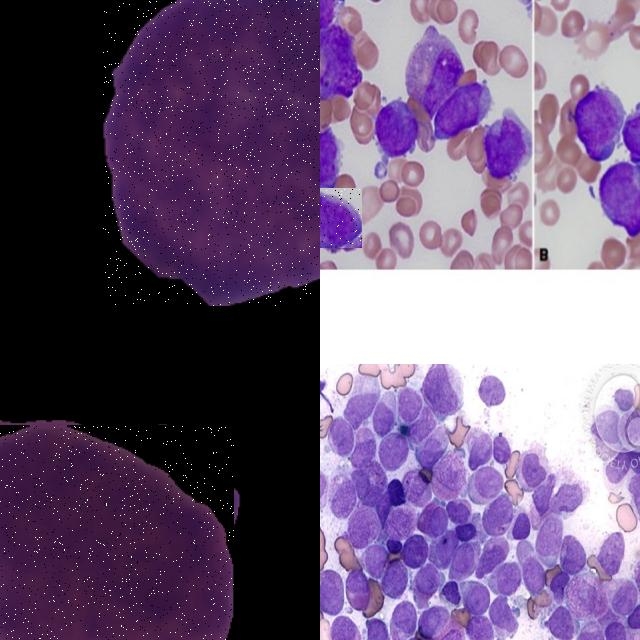ALL Negative Cells: (104, 0, 320, 306), (0, 426, 234, 640), (512, 536, 546, 590), (376, 432, 412, 471), (524, 451, 550, 496)
ALL Positive Cell: (435, 78, 500, 137), (576, 92, 626, 161), (484, 114, 534, 180), (596, 162, 640, 233), (373, 96, 419, 160), (320, 187, 362, 248), (320, 30, 359, 93), (454, 513, 481, 551), (621, 111, 640, 163), (549, 570, 570, 604), (438, 576, 462, 603), (388, 476, 408, 508), (383, 538, 404, 562), (624, 605, 640, 629)
